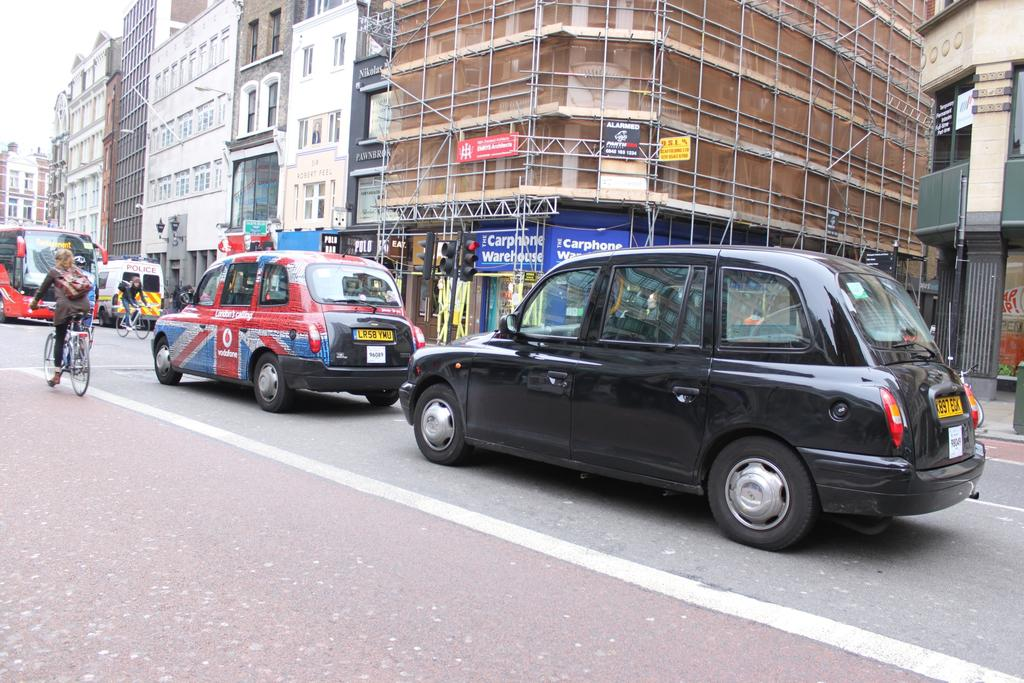taxi: (399, 248, 987, 553), (152, 252, 427, 414)
